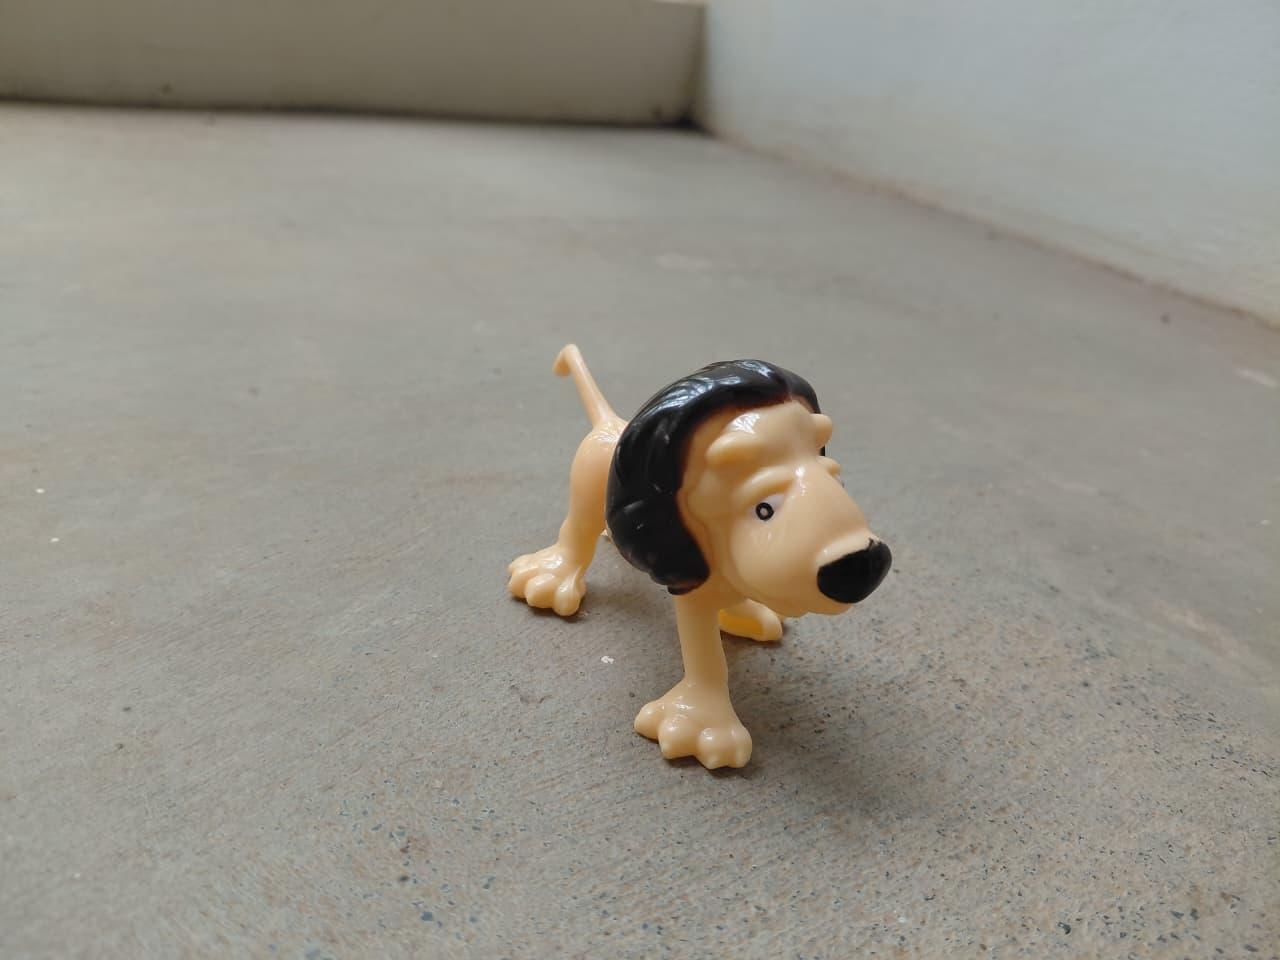lion: (500, 313, 890, 776)
